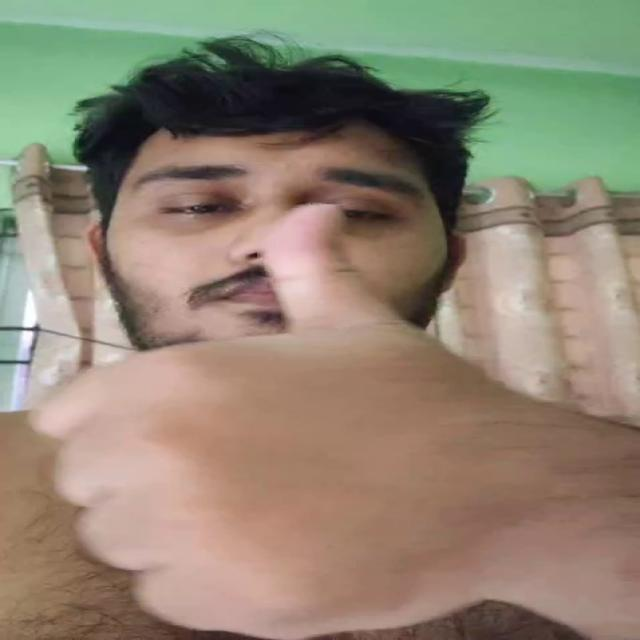Yes: (37, 205, 506, 640)
